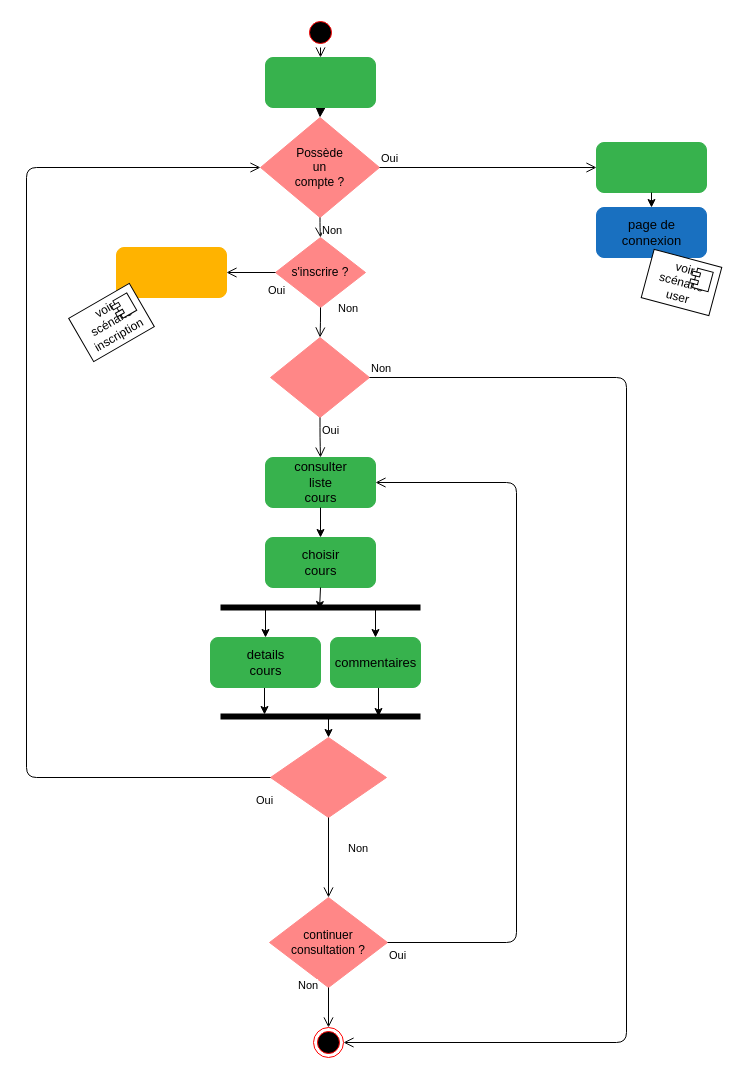
Image size: 740x1075. Some labels were removed from this diagram. The centre of each missing label's shape, as x and y in pixels:
"ajoute comm / note ?" belongs at [328,777].
"consulter un cours ?" belongs at [320,377].
"Homepage généric" belongs at [320,82].
"page formulaire inscription" belongs at [171,272].
"se connecter" belongs at [651,167].
